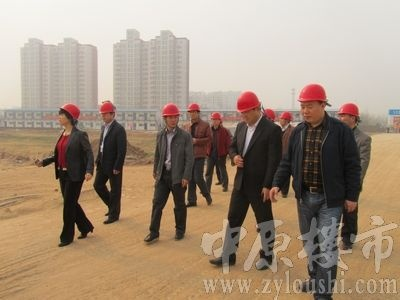red: (298, 83, 327, 122), (234, 90, 261, 122), (57, 101, 80, 128), (337, 101, 360, 127), (161, 103, 180, 127), (98, 100, 116, 123), (187, 102, 200, 119), (279, 111, 291, 127), (211, 111, 221, 126)
